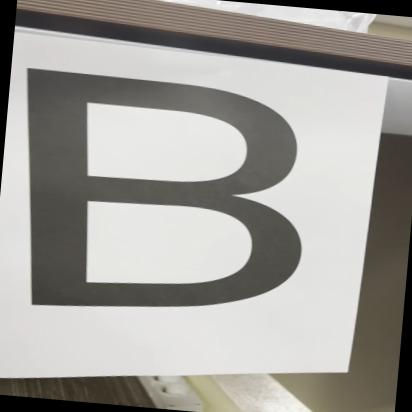seat: (0, 56, 340, 336)
